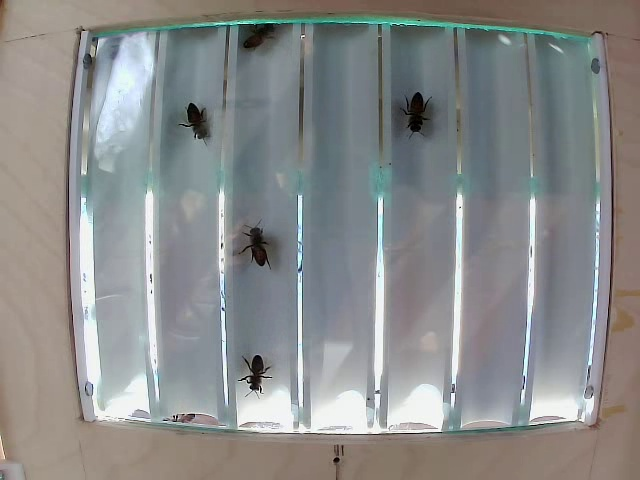bee: (239, 216, 279, 280), (175, 102, 220, 144), (235, 343, 272, 385), (397, 91, 428, 138), (241, 21, 288, 48)
